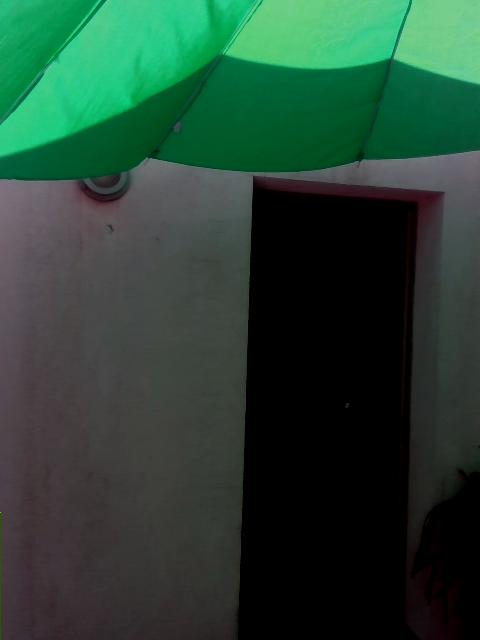semi_door: (236, 174, 417, 633)
